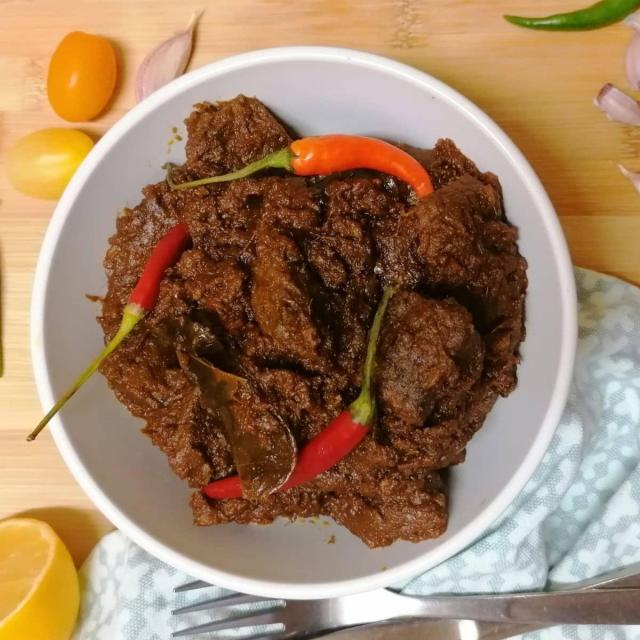Rendang: (102, 108, 532, 574)
